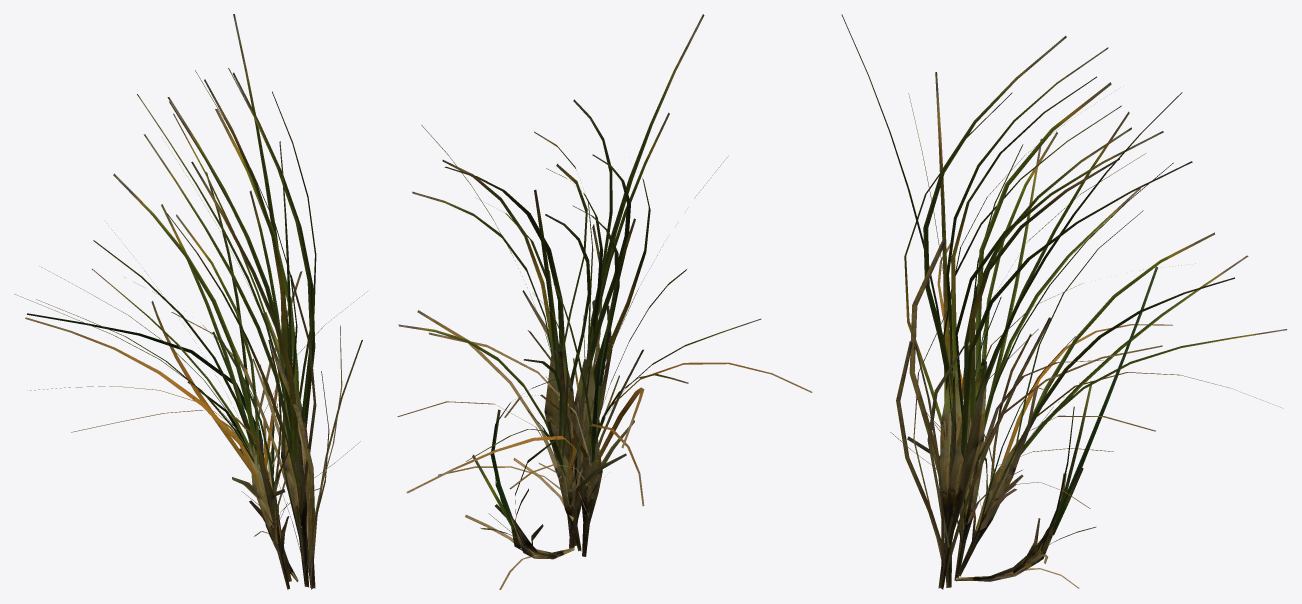
The model's file is Rumput 1.fbx.
3 views of the same model, side by side, from view 1: azimuth 30°, elevation 25°; view 2: azimuth 150°, elevation 25°; view 3: azimuth 270°, elevation 25° (orthographic). The views are drawn at different scales.
Parts seen in each view (by area): view 1: rumput 1; view 2: rumput 1; view 3: rumput 1.
Boxes of the visible parts, x1,y1,x2,y2 form: rumput 1: [14, 14, 367, 589]; rumput 1: [397, 14, 812, 589]; rumput 1: [841, 14, 1287, 589].
Bounding box in the file's own units: 36.58 × 51.67 × 39.04.
